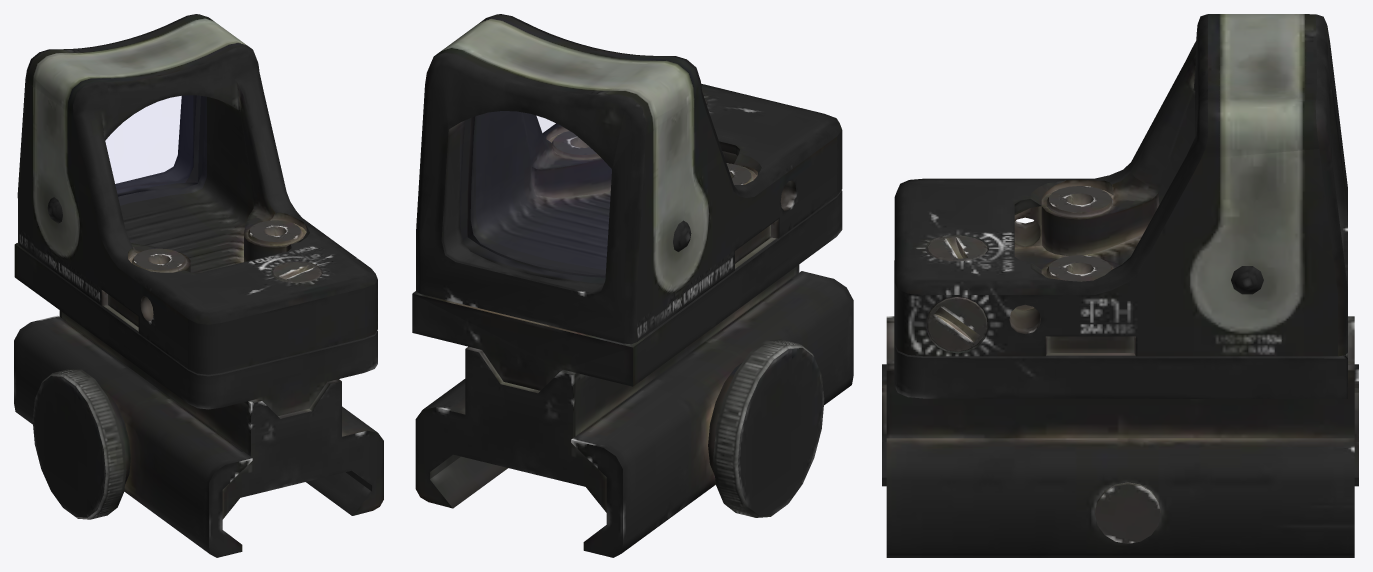
Rendered from Reflex-Sight-NATO.glb.
The picture shows the model from 3 angles, left to right: view 1: azimuth 30°, elevation 25°; view 2: azimuth 150°, elevation 25°; view 3: azimuth 270°, elevation 25°; orthographic projection. The views are drawn at different scales.
Visible parts, largest first — view 1: Reflex Sight NATO; view 2: Reflex Sight NATO; view 3: Reflex Sight NATO.
Boxes of the visible parts, box(x1,y1,x2,y2) form: Reflex Sight NATO: box(14, 14, 383, 557); Reflex Sight NATO: box(412, 14, 853, 557); Reflex Sight NATO: box(882, 14, 1358, 557).
Size of the model in its own units: 0.032 by 0.0528 by 0.0473.
2 materials, 1 textured.
